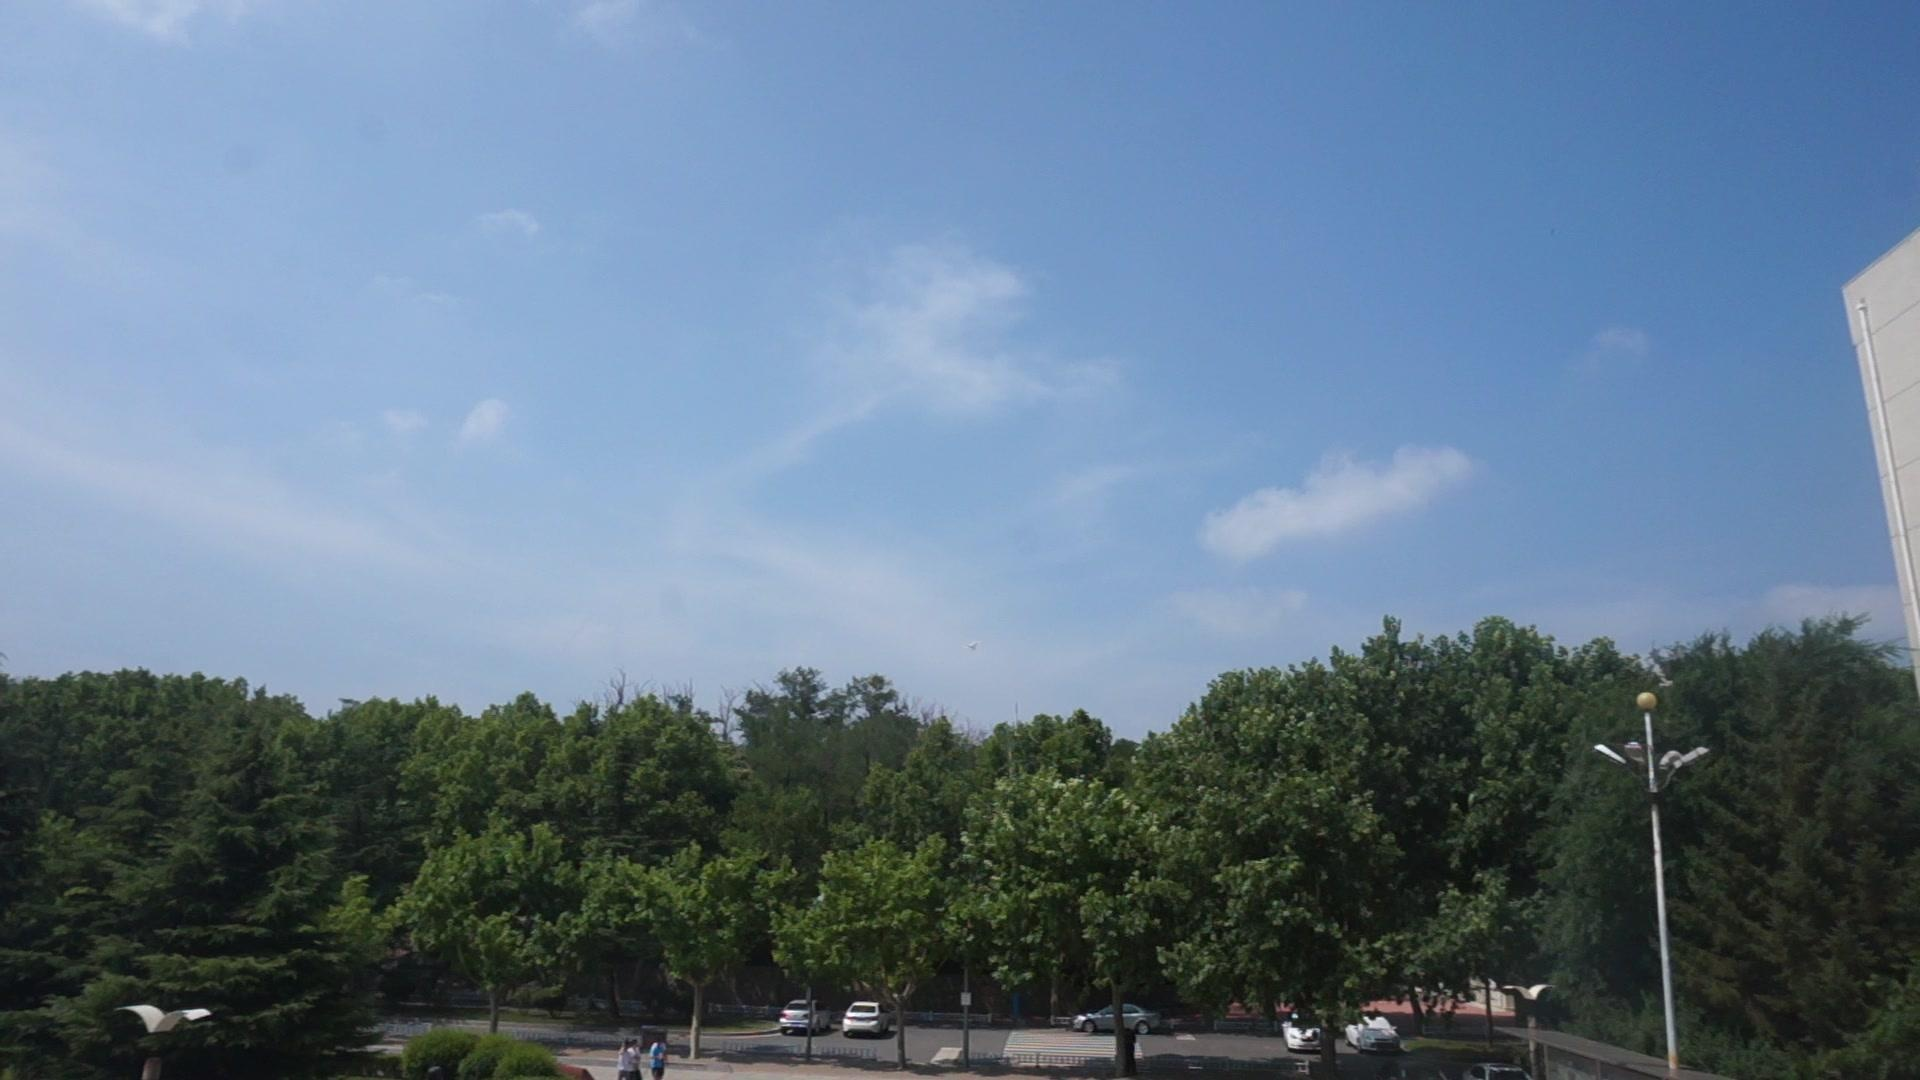UAV: (967, 642, 981, 651)
